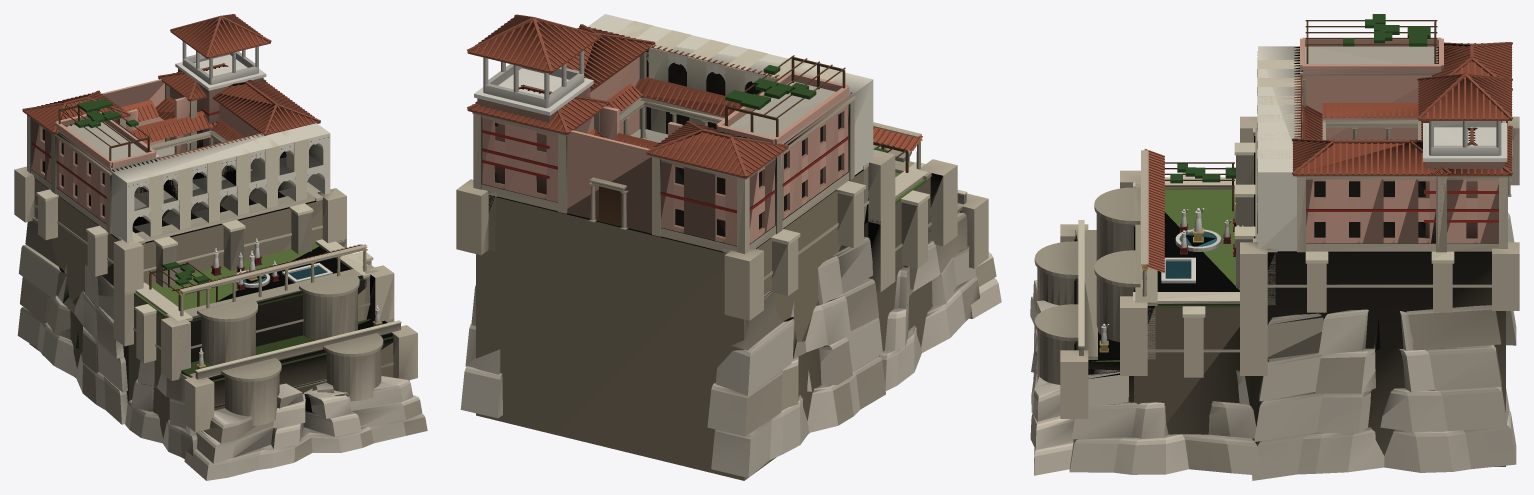
The model's file is rome_domus_b.glb.
3 views of the same model, side by side, from view 1: azimuth 30°, elevation 25°; view 2: azimuth 150°, elevation 25°; view 3: azimuth 270°, elevation 25° (orthographic). The views are drawn at different scales.
Parts seen in each view (by area): view 1: rome_domus_b; view 2: rome_domus_b; view 3: rome_domus_b.
Part boxes in pixels (box(x1,y1,x2,y2)): rome_domus_b: box(14, 14, 427, 480); rome_domus_b: box(456, 14, 1001, 480); rome_domus_b: box(1030, 14, 1519, 480).
Bounding box in the file's own units: 33.9 × 42.85 × 49.35.
